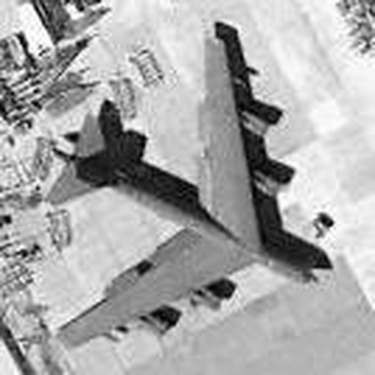airplane: (39, 16, 333, 351)
